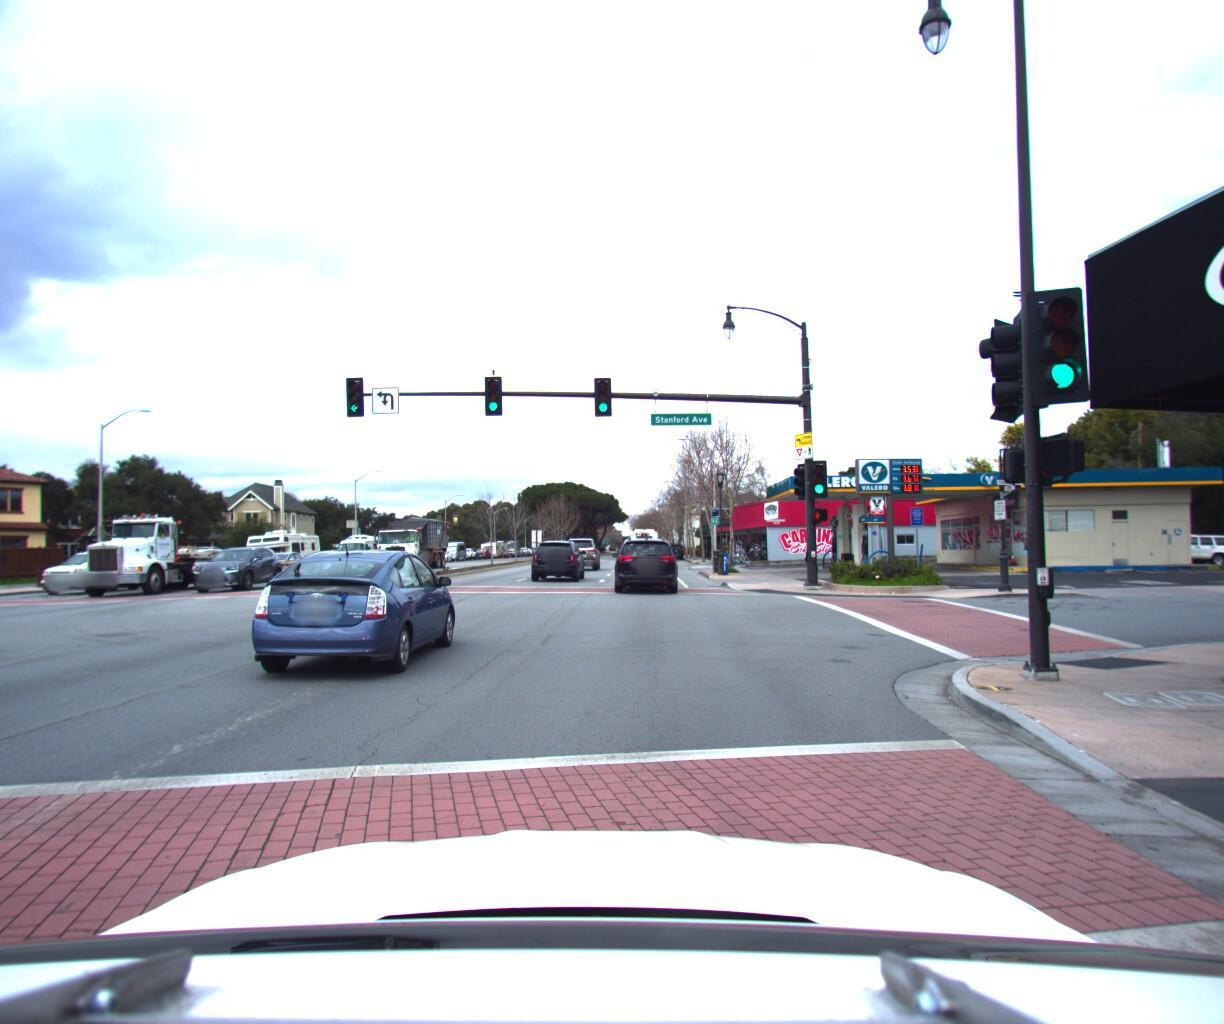bicycle: (731, 541, 757, 559)
car: (240, 538, 465, 684), (42, 538, 159, 586), (183, 539, 292, 588), (611, 526, 679, 588), (1134, 523, 1224, 556), (529, 529, 586, 575), (329, 526, 391, 567), (564, 535, 606, 570)
other_vehicle: (244, 518, 328, 571)
truck: (46, 499, 338, 593), (369, 503, 457, 564), (628, 517, 659, 545)
